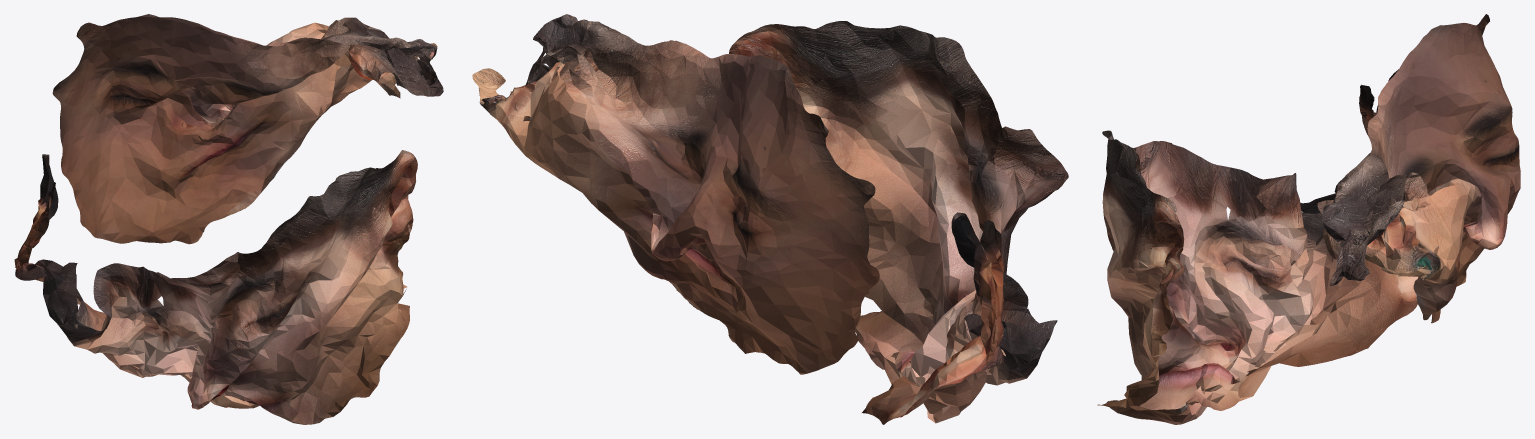
Rendered from BUSTO_3.gltf.
The picture shows the model from 3 angles, left to right: view 1: azimuth 30°, elevation 25°; view 2: azimuth 150°, elevation 25°; view 3: azimuth 270°, elevation 25°; orthographic projection. The views are drawn at different scales.
Parts seen in each view (by area): view 1: Busto 04_4.001, Busto 03_4.001; view 2: Busto 04_4.001, Busto 03_4.001; view 3: Busto 03_4.001, Busto 04_4.001.
Part boxes in pixels (x1=…): Busto 04_4.001: x1=14, y1=14, x2=443, y2=281; Busto 03_4.001: x1=15, y1=150, x2=417, y2=424; Busto 04_4.001: x1=472, y1=14, x2=1003, y2=374; Busto 03_4.001: x1=729, y1=21, x2=1068, y2=424; Busto 03_4.001: x1=1097, y1=130, x2=1418, y2=424; Busto 04_4.001: x1=1317, y1=14, x2=1520, y2=323.
Bounding box in the file's own units: 6.19 × 4.62 × 4.64.
Materials: 2 (2 with a texture image).
